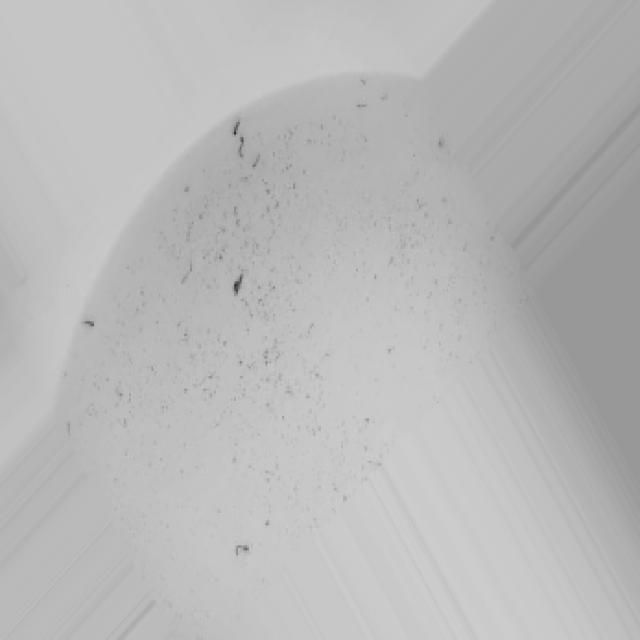larvas: (232, 272, 245, 294), (235, 542, 248, 559), (252, 149, 262, 168), (237, 138, 244, 160), (232, 119, 240, 137), (84, 318, 97, 328), (356, 101, 364, 109)
